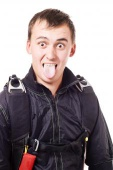male: (26, 11, 75, 86)
